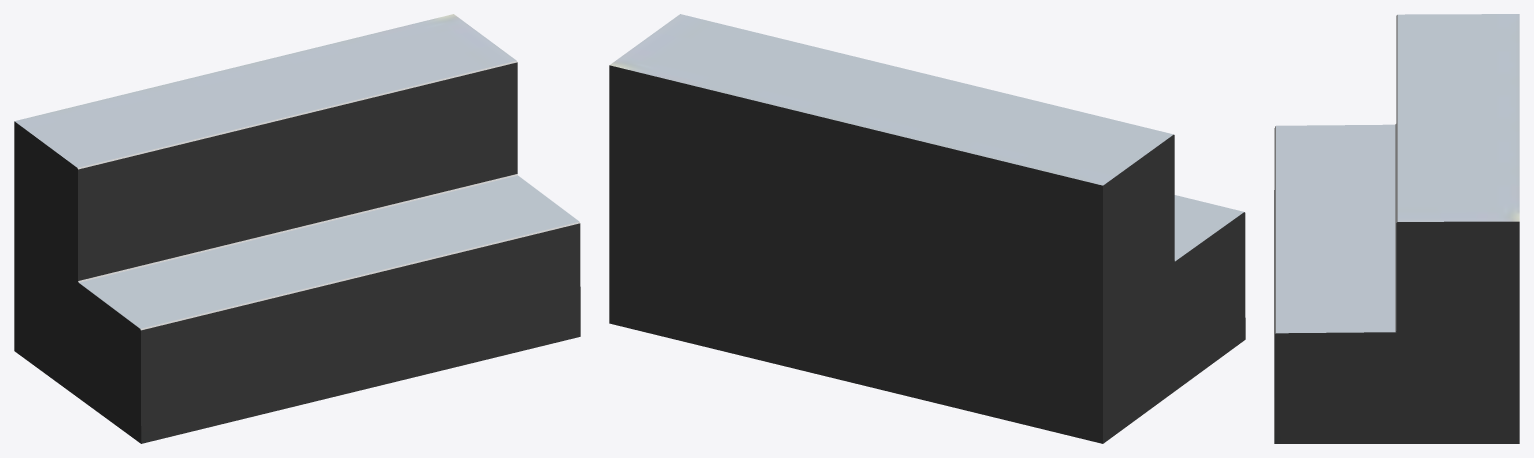
3 views of the same model, side by side, from view 1: azimuth 30°, elevation 25°; view 2: azimuth 150°, elevation 25°; view 3: azimuth 270°, elevation 25° (orthographic). The views are drawn at different scales.
Visible parts, largest first — view 1: Lo-Body_01; view 2: Lo-Body_01; view 3: Lo-Body_01.
Boxes of the visible parts, bbox=[...] form: Lo-Body_01: bbox=[14, 14, 580, 443]; Lo-Body_01: bbox=[609, 14, 1245, 443]; Lo-Body_01: bbox=[1274, 14, 1519, 443].
Bounding box in the file's own units: 1.2 × 0.6 × 0.6.
1 material, 1 textured.
